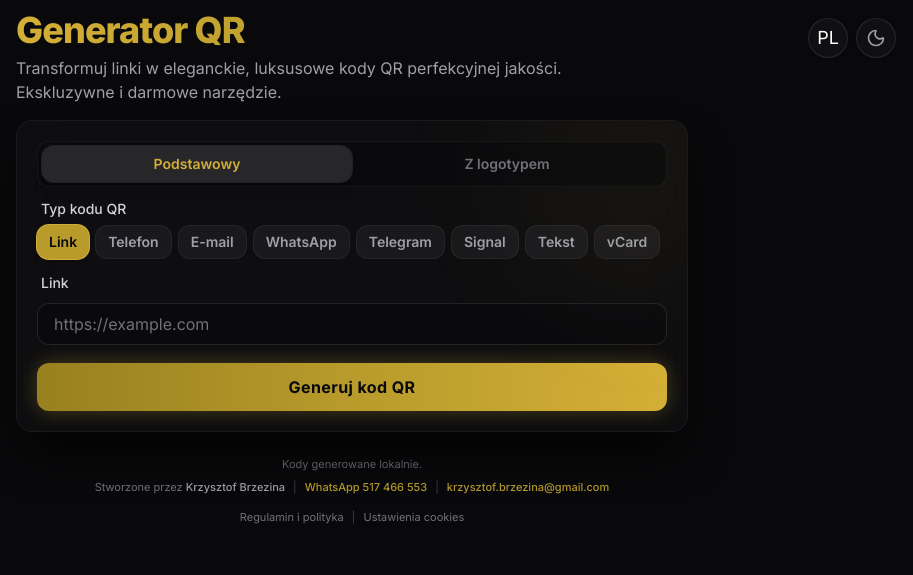
Test: Home komponent › wyswietla blad dla zablokowanego protokolu
Type "ftp://example.com" into the field labelled "Link" at coordinates (352, 324), box [37,303,667,345]
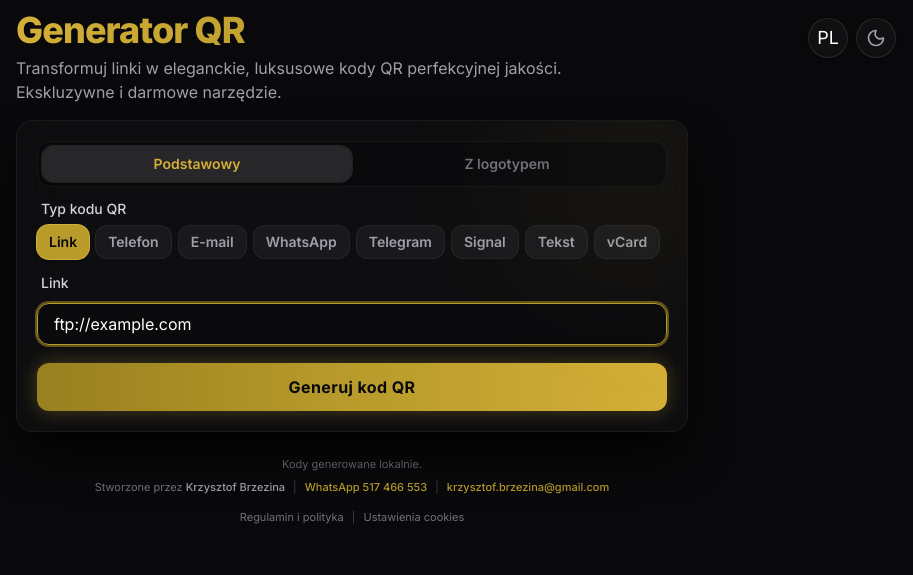
Click the button "Generuj kod QR" at coordinates (352, 387), box [37,363,667,411]
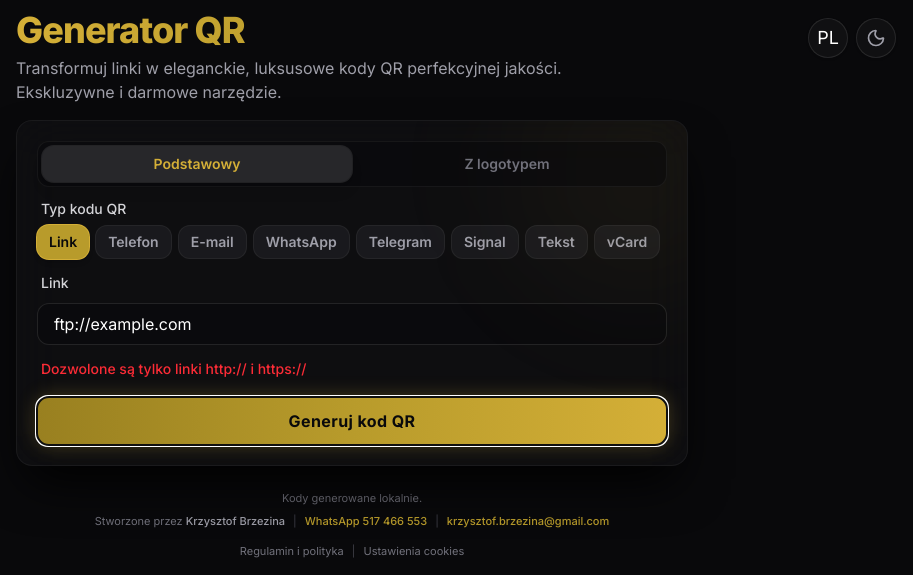
Expected: the text "Dozwolone są tylko linki http:// i https://" is shown, [41,360,306,377]
